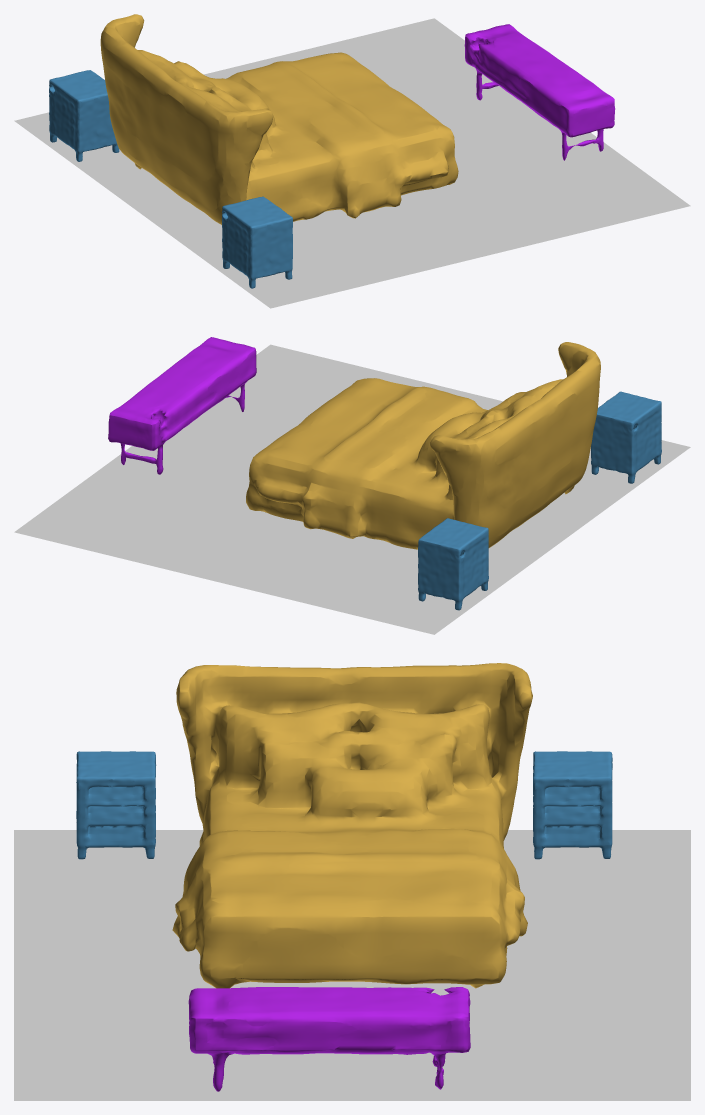
The model's file is Bedroom2.glb.
3 views of the same model, one above another, from view 1: azimuth 30°, elevation 25°; view 2: azimuth 150°, elevation 25°; view 3: azimuth 270°, elevation 25° (orthographic). The views are drawn at different scales.
Parts seen in each view (by area): view 1: world; view 2: world; view 3: world.
Part boxes in pixels (bbox=[...]): world: bbox=[14, 14, 690, 308]; world: bbox=[14, 337, 690, 634]; world: bbox=[14, 663, 690, 1100].
Size of the model in its own units: 3.64 by 1.15 by 3.84.
